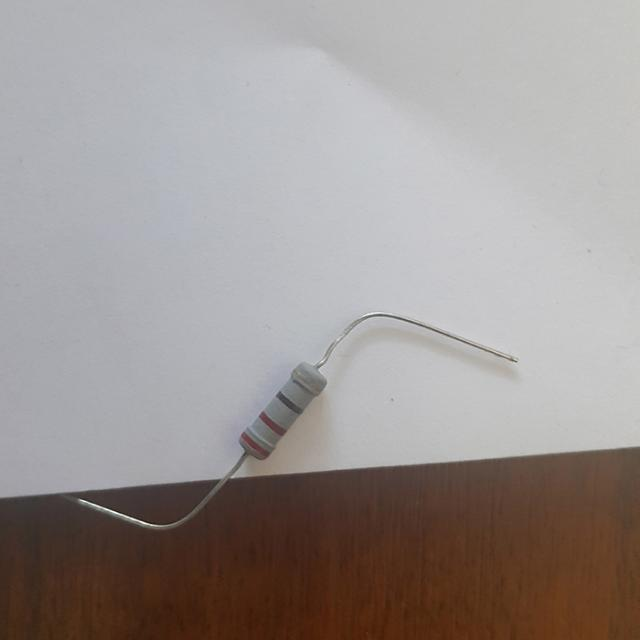brown: (276, 391, 302, 414)
gold: (292, 369, 320, 396)
red: (241, 430, 270, 456), (260, 411, 286, 435)
resistor: (219, 345, 344, 485)
